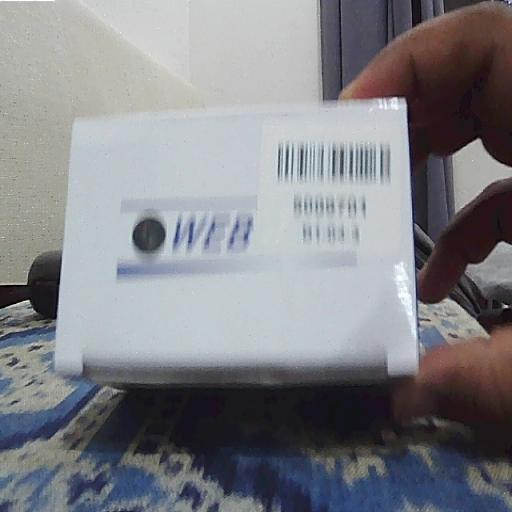webcam_box: (54, 96, 420, 389)
